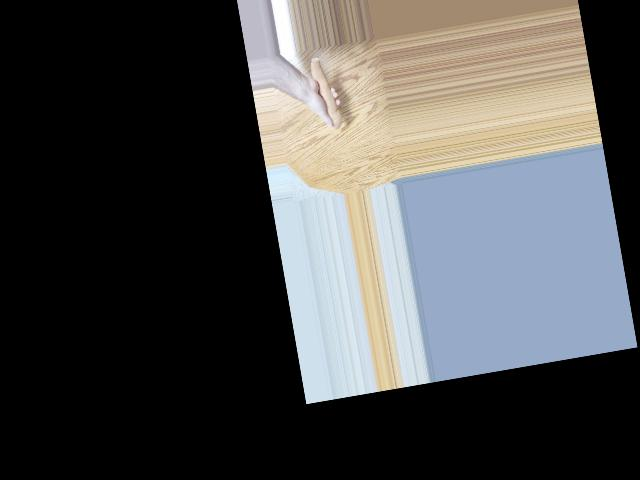sweet_potato: (305, 51, 344, 131)
